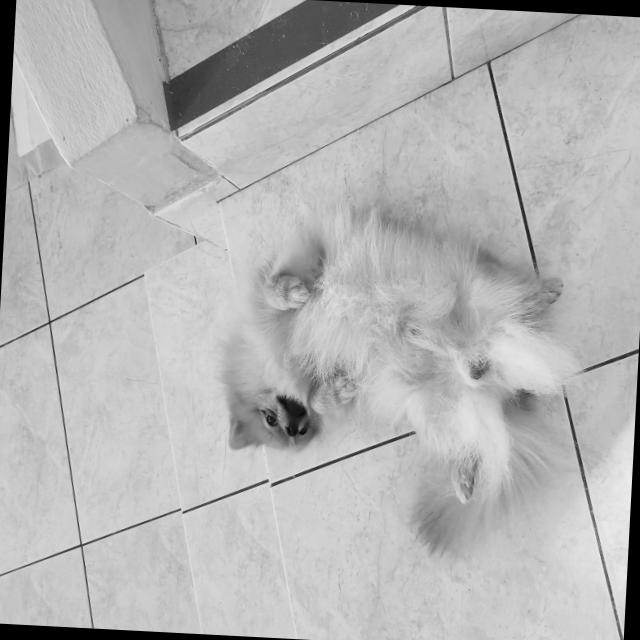laying down: (208, 188, 596, 568)
